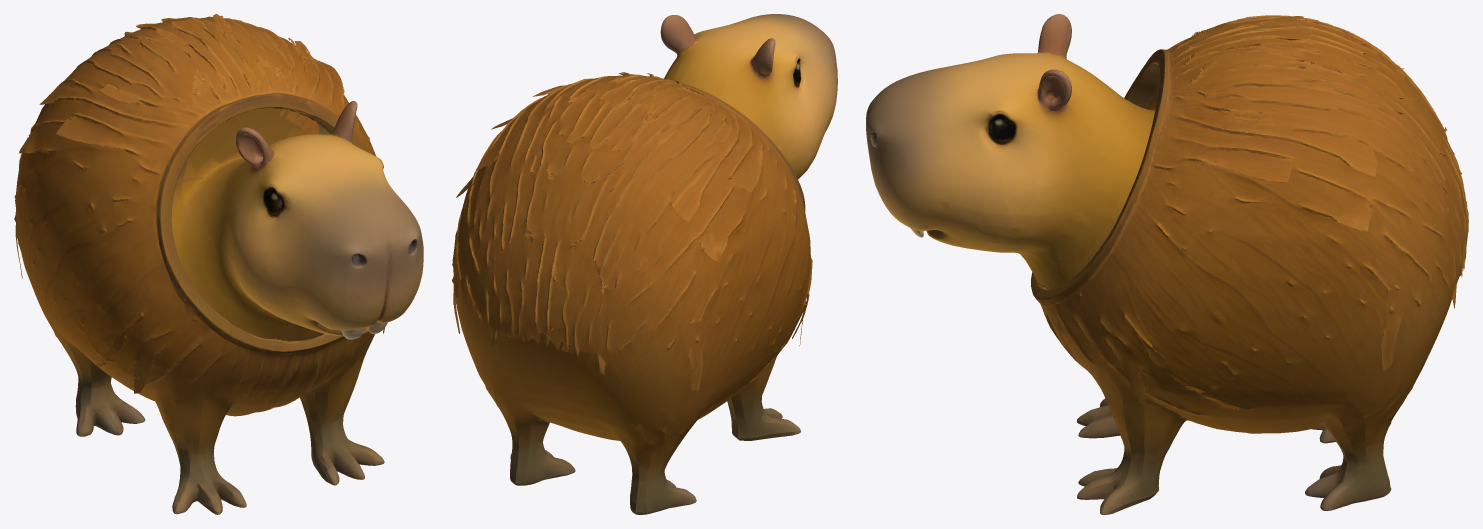
Rendered from bobrini_cocosini.glb.
3 renders of one model, left to right at view 1: azimuth 30°, elevation 25°; view 2: azimuth 150°, elevation 25°; view 3: azimuth 270°, elevation 25°, orthographic. The views are drawn at different scales.
Parts seen in each view (by area): view 1: Object_2; view 2: Object_2; view 3: Object_2.
Part boxes in pixels (x1,y1,x2,y2): Object_2: (14,14,423,514); Object_2: (452,14,837,514); Object_2: (866,14,1468,514).
Bounding box in the file's own units: 1.16 × 1.49 × 1.9.
1 material, 1 textured.
